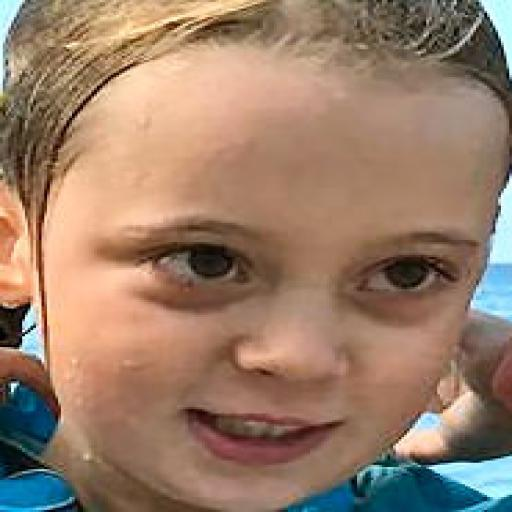Autism: (4, 11, 512, 498)
